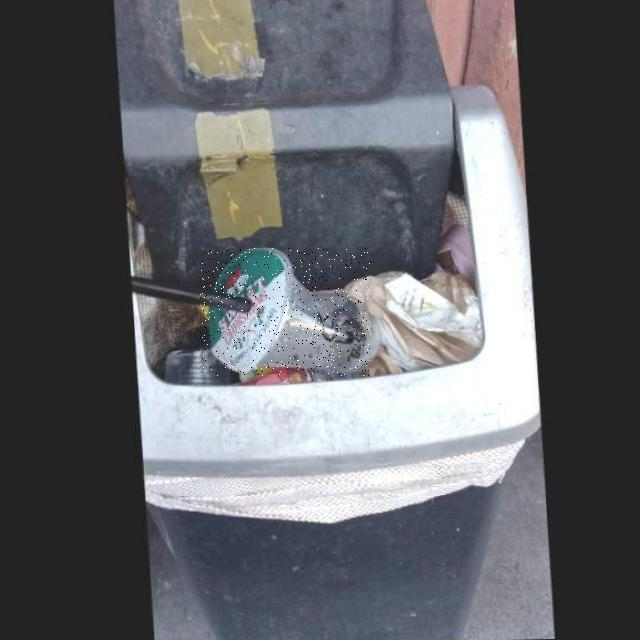plastic: (201, 249, 371, 376)
